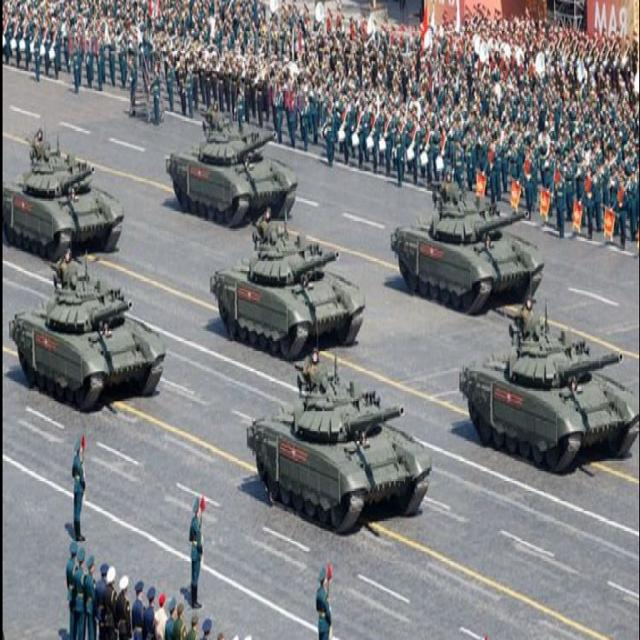TANK: (248, 353, 429, 537), (461, 304, 639, 474), (9, 266, 164, 408), (214, 226, 364, 360), (397, 184, 542, 312), (167, 112, 296, 227), (3, 136, 123, 258)
